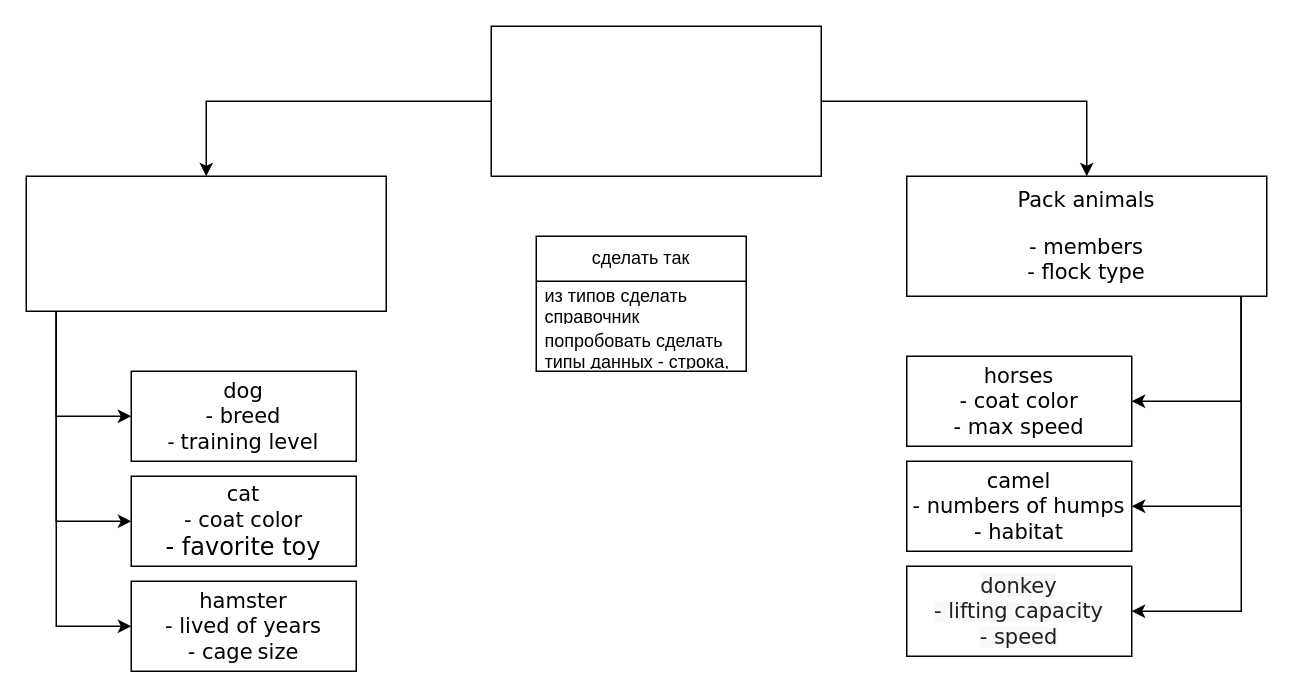
This 1293x698 diagram has some shape labels left out. Each missing label, with the centre of its shape:
"animals - name - birthdate - type" belongs at (x=655, y=100).
"Pets - owner - list of learned commands" belongs at (x=205, y=243).
